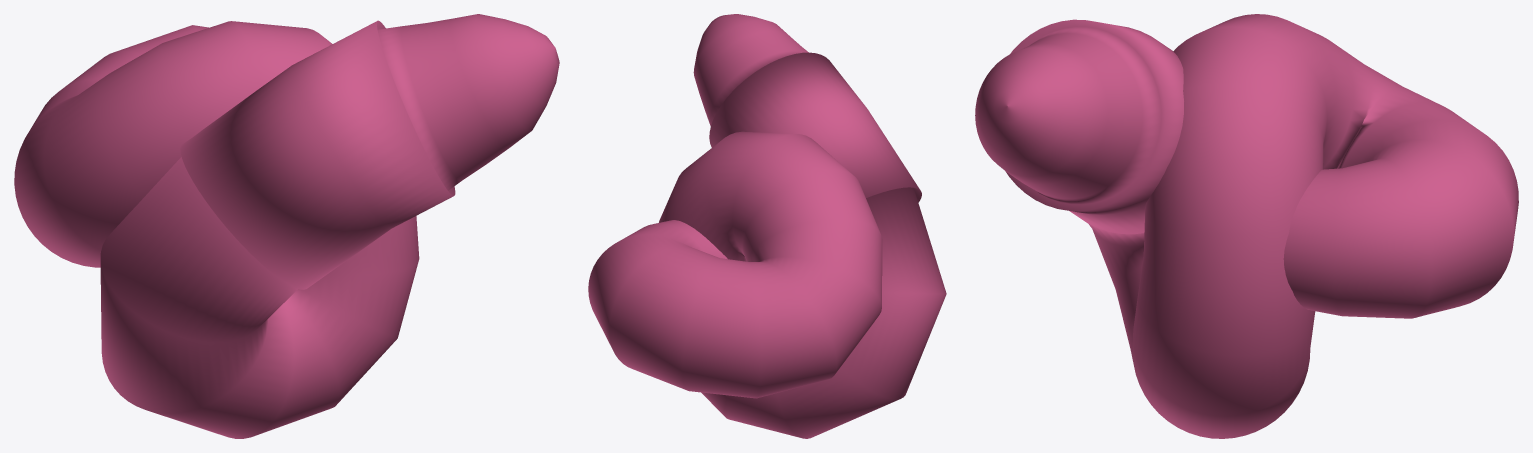
The model's file is Worm.fbx.
The picture shows the model from 3 angles, left to right: view 1: azimuth 30°, elevation 25°; view 2: azimuth 150°, elevation 25°; view 3: azimuth 270°, elevation 25°; orthographic projection. The views are drawn at different scales.
Parts seen in each view (by area): view 1: BezierCurve.013; view 2: BezierCurve.013; view 3: BezierCurve.013.
Boxes of the visible parts, x1,y1,x2,y2 form: BezierCurve.013: (14,14,559,438); BezierCurve.013: (588,14,946,438); BezierCurve.013: (975,14,1518,438).
Size of the model in its own units: 42.17 by 46.74 by 53.18.
